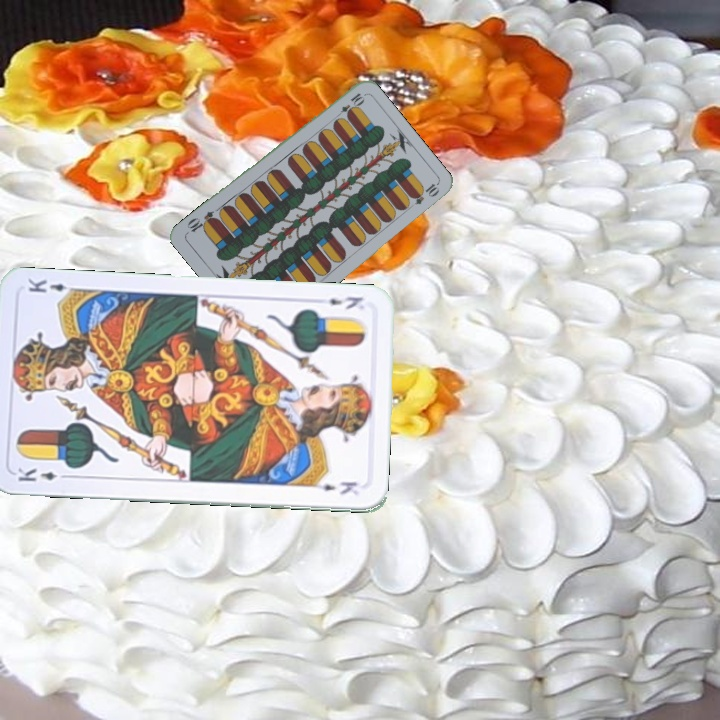E10: (331, 89, 367, 122)
EK: (13, 464, 72, 484), (324, 292, 365, 312)
